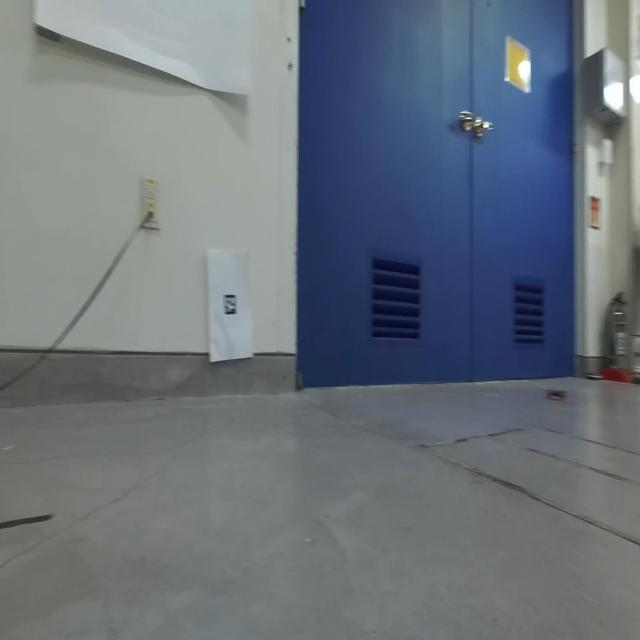crazyflie: (544, 382, 570, 407)
